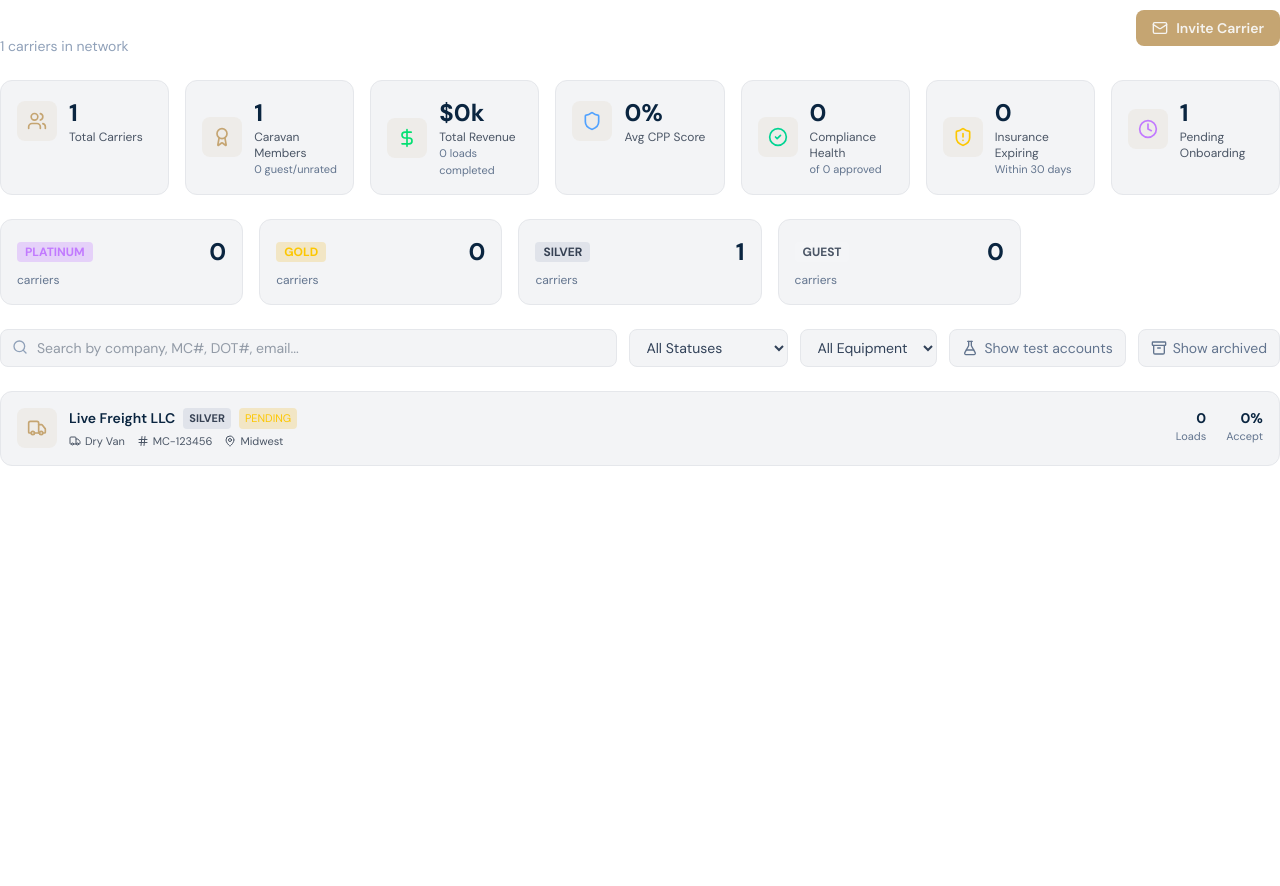
Test: Terminating an agreement says what it ends › the Broker-Carrier dialog keeps its wording
Expected: the text "Live Freight LLC" is shown, [69,408,175,428]
Click the button "Live Freight LLC". click: (37, 428)
box: [0,391,1279,466]
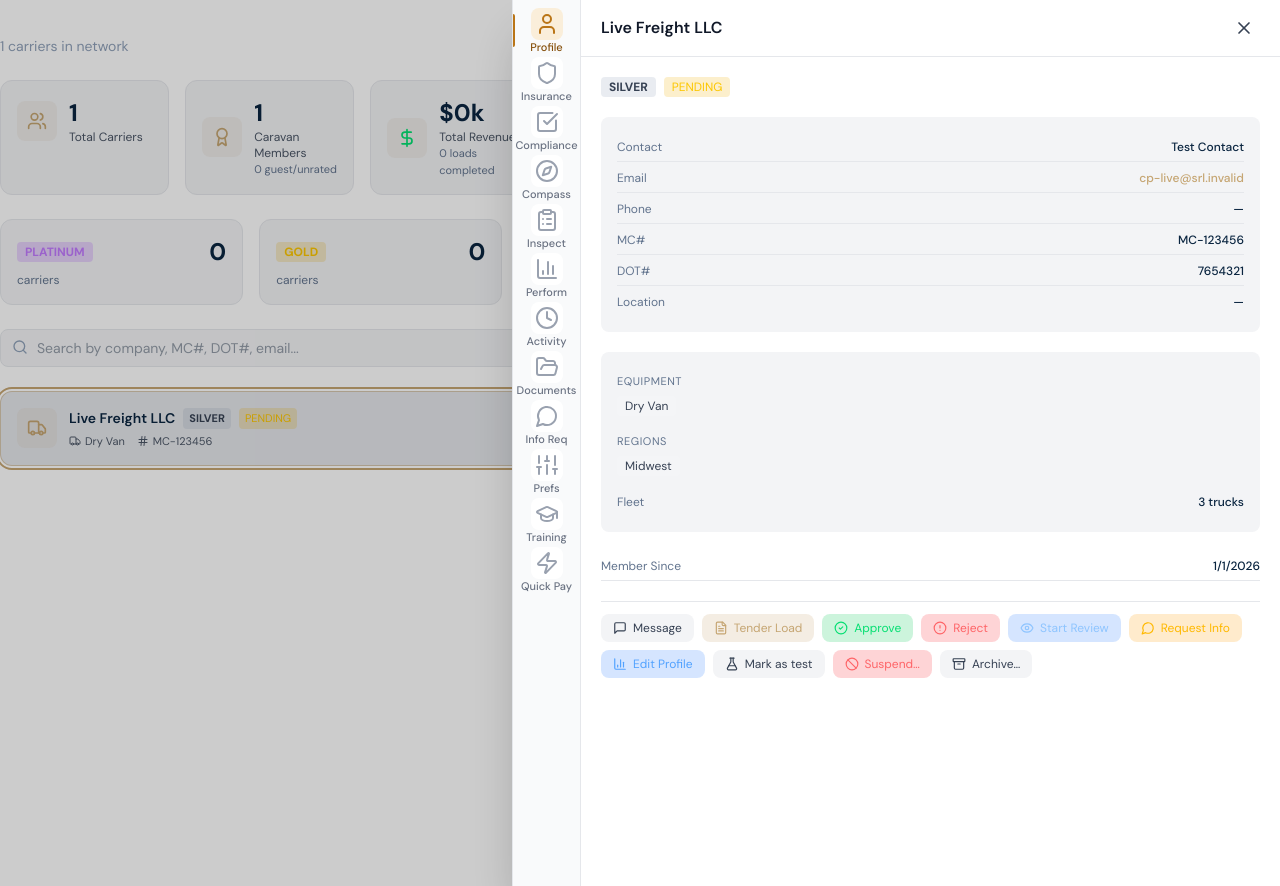
Click the button "Compliance". click: (546, 128)
box: [513,106,580,151]
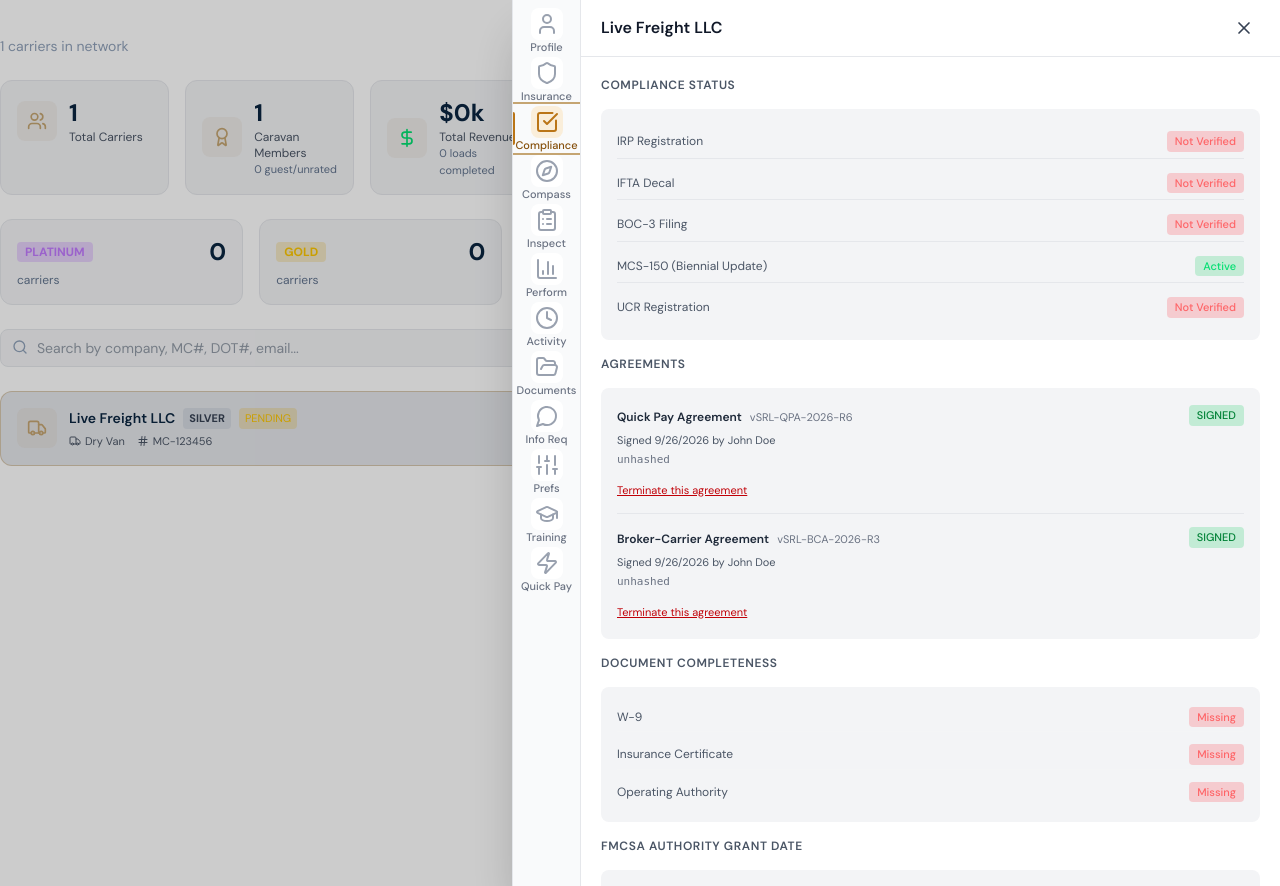
Now the number of buttons "Terminate this agreement" is 2
Click the button "Terminate this agreement" below "Broker-Carrier Agreement". click: (682, 612)
box: [617,604,747,620]
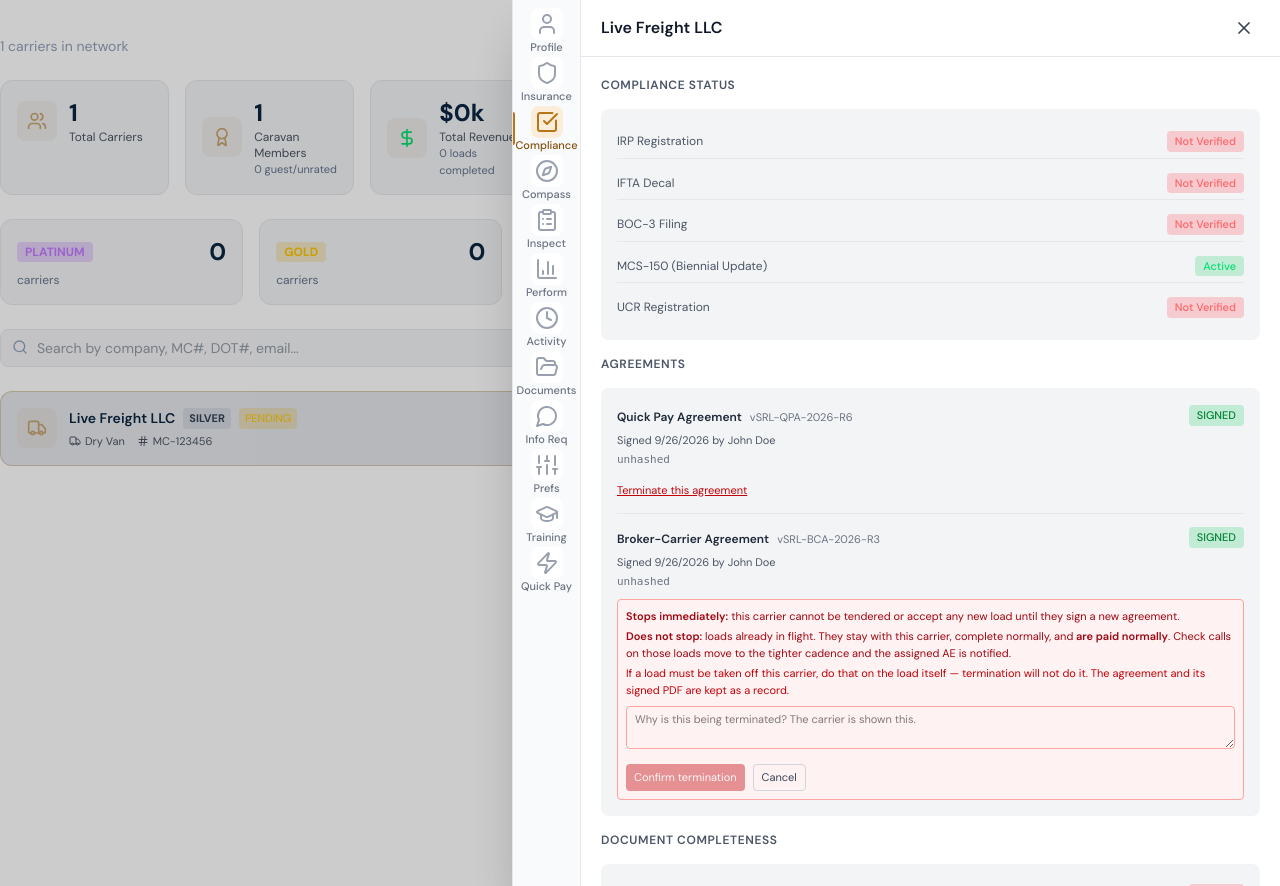
Now the dialog shows "cannot be tendered or accept any new load", box [731,608,1179,622]
